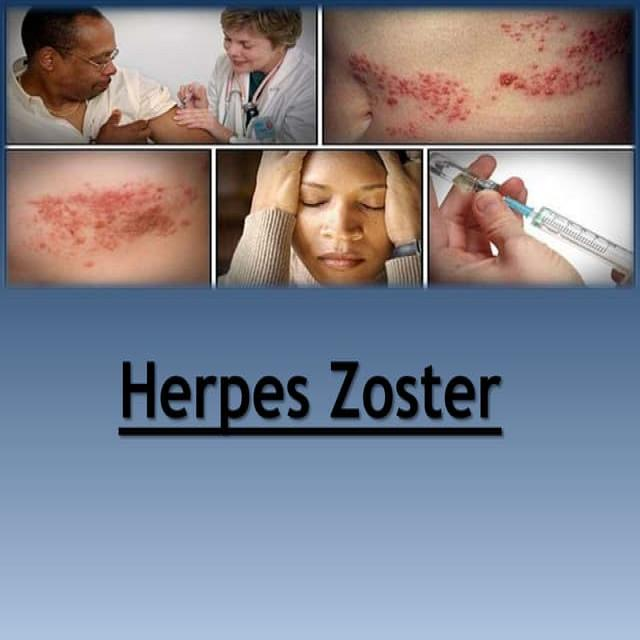herpes zoster: (16, 169, 204, 273), (489, 11, 626, 101), (341, 41, 479, 129)
